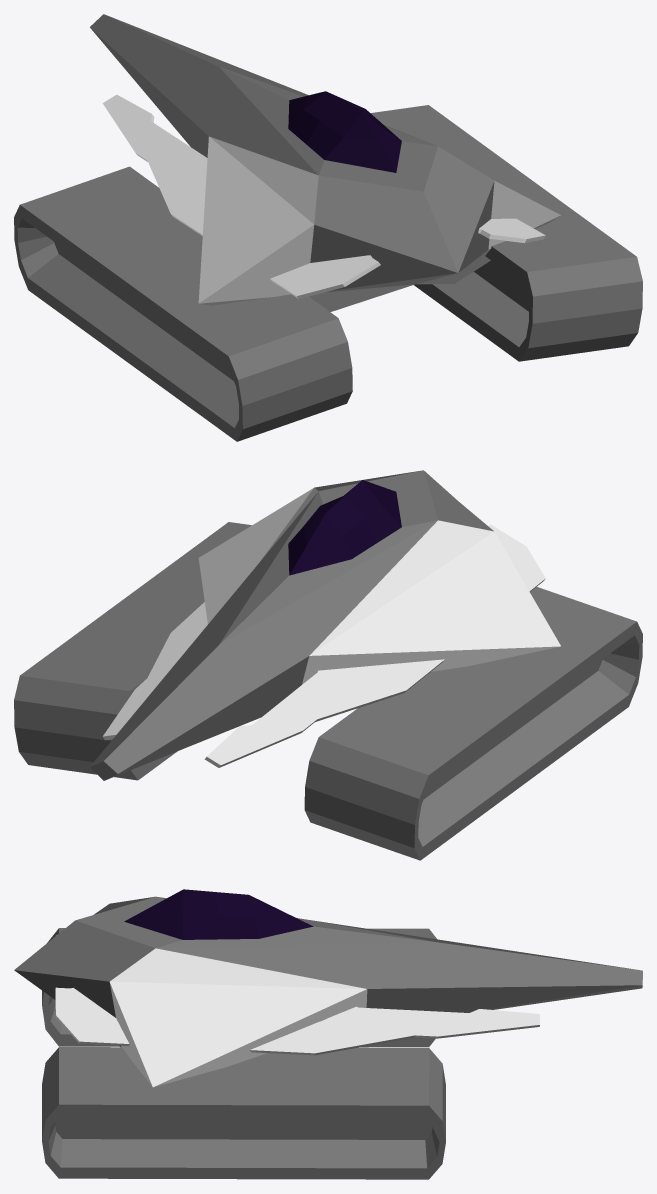
The model's file is 494_player_v3.fbx.
3 views of the same model, one above another, from view 1: azimuth 30°, elevation 25°; view 2: azimuth 150°, elevation 25°; view 3: azimuth 270°, elevation 25° (orthographic). The views are drawn at different scales.
Parts seen in each view (by area): view 1: Tread.001, Hull.003, Wings.003; view 2: Tread.001, Hull.003, Wings.003; view 3: Hull.003, Tread.001, Wings.003.
Boxes of the visible parts, <box> form: Tread.001: <box>14,105,642,441</box>; Hull.003: <box>90,14,560,311</box>; Wings.003: <box>102,94,545,298</box>; Tread.001: <box>14,522,642,860</box>; Hull.003: <box>90,470,560,780</box>; Wings.003: <box>102,524,545,767</box>; Hull.003: <box>14,889,642,1087</box>; Tread.001: <box>42,928,445,1179</box>; Wings.003: <box>55,935,539,1055</box>.
Bounding box in the file's own units: 81.35 × 44.06 × 122.
